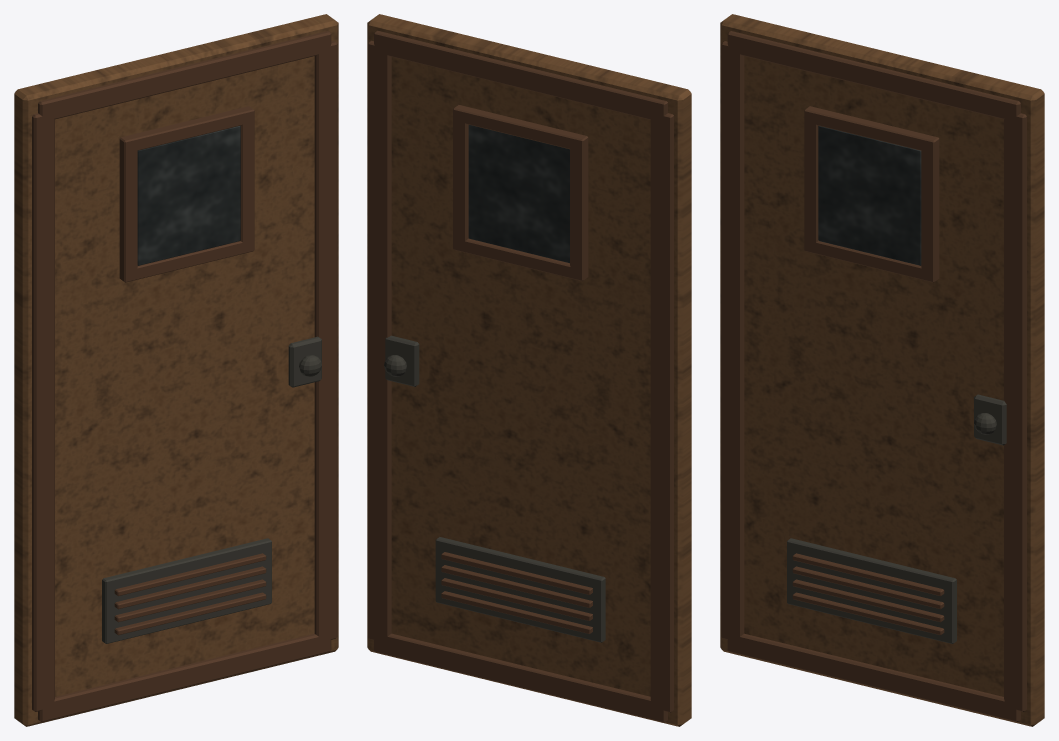
File: Door_Animated.glb
The picture shows the model from 3 angles, left to right: view 1: azimuth 30°, elevation 25°; view 2: azimuth 150°, elevation 25°; view 3: azimuth 330°, elevation 25°; orthographic projection.
Visible parts, largest first — view 1: Door_Animated.001; view 2: Door_Animated.001; view 3: Door_Animated.001.
Boxes of the visible parts, x1,y1,x2,y2 form: Door_Animated.001: (14,14,338,726); Door_Animated.001: (367,14,691,726); Door_Animated.001: (720,14,1044,726).
Size of the model in its own units: 1.16 by 2.22 by 0.2581.
Materials: 4 (4 with a texture image).
